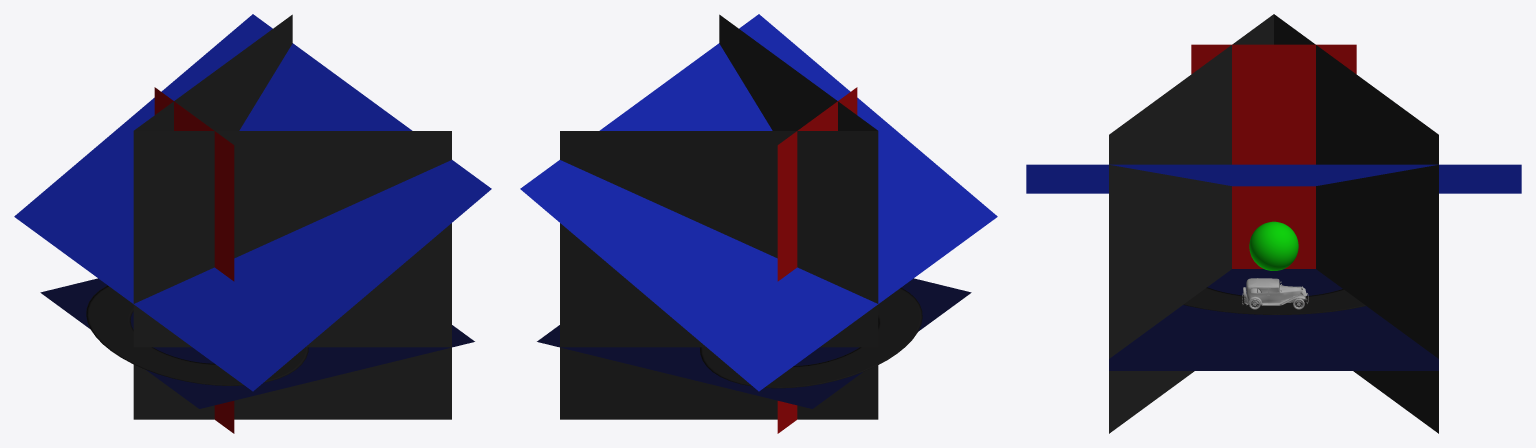
Rendered from CarScene.obj.
3 renders of one model, left to right at view 1: azimuth 30°, elevation 25°; view 2: azimuth 150°, elevation 25°; view 3: azimuth 270°, elevation 25°, orthographic. The views are drawn at different scales.
Parts seen in each view (by area): view 1: Plane.002_Plane.013, Plane.006_Plane.018, Plane_Plane.011, Plane.003_Plane.014, Torus, Plane.001_Plane.012; view 2: Plane.003_Plane.014, Plane.006_Plane.018, Plane_Plane.011, Plane.002_Plane.013, Torus, Plane.001_Plane.012; view 3: Plane.002_Plane.013, Plane.003_Plane.014, Plane_Plane.011, Plane.001_Plane.012, Plane.006_Plane.018, Torus, Sphere_Sphere.004, DodgeCleaned5.
Boxes of the visible parts, x1=… form: Plane.002_Plane.013: x1=133, y1=131, x2=451, y2=419; Plane.006_Plane.018: x1=14, y1=14, x2=491, y2=391; Plane_Plane.011: x1=40, y1=278, x2=474, y2=408; Plane.003_Plane.014: x1=134, y1=14, x2=292, y2=130; Torus: x1=86, y1=285, x2=308, y2=385; Plane.001_Plane.012: x1=154, y1=87, x2=234, y2=433; Plane.003_Plane.014: x1=560, y1=131, x2=878, y2=419; Plane.006_Plane.018: x1=520, y1=14, x2=997, y2=391; Plane_Plane.011: x1=537, y1=278, x2=971, y2=408; Plane.002_Plane.013: x1=719, y1=14, x2=877, y2=130; Torus: x1=699, y1=288, x2=922, y2=388; Plane.001_Plane.012: x1=777, y1=87, x2=857, y2=433; Plane.002_Plane.013: x1=1109, y1=14, x2=1273, y2=433; Plane.003_Plane.014: x1=1274, y1=14, x2=1438, y2=433; Plane_Plane.011: x1=1109, y1=269, x2=1438, y2=370; Plane.001_Plane.012: x1=1191, y1=44, x2=1356, y2=268; Plane.006_Plane.018: x1=1026, y1=164, x2=1521, y2=193; Torus: x1=1183, y1=287, x2=1365, y2=314; Sphere_Sphere.004: x1=1249, y1=221, x2=1298, y2=270; DodgeCleaned5: x1=1242, y1=278, x2=1308, y2=309.
Size of the model in its own units: 4.1 by 4 by 6.
